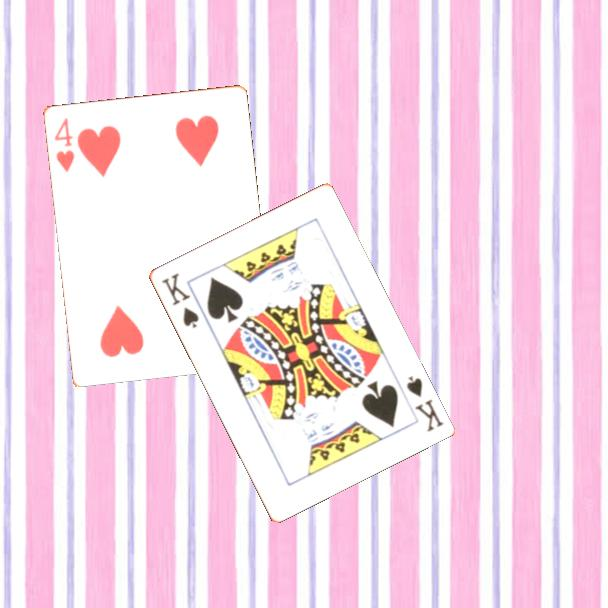h04: (50, 114, 77, 174)
s13: (158, 269, 202, 331), (402, 373, 446, 435)
